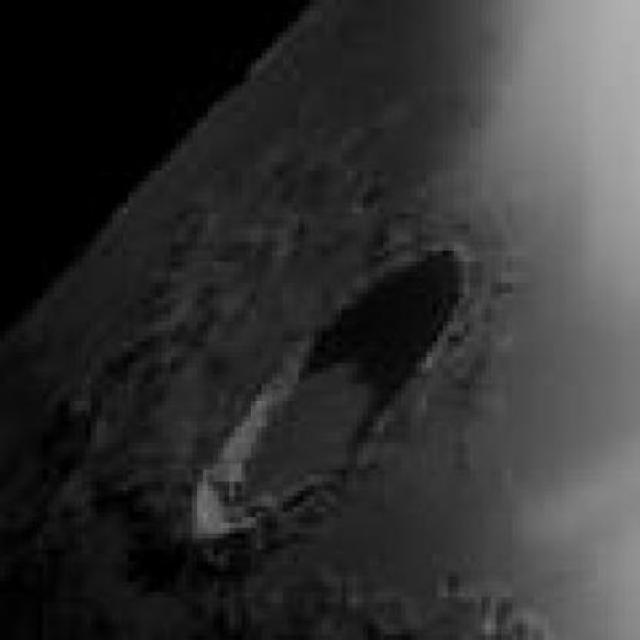crater: (185, 252, 463, 548)
